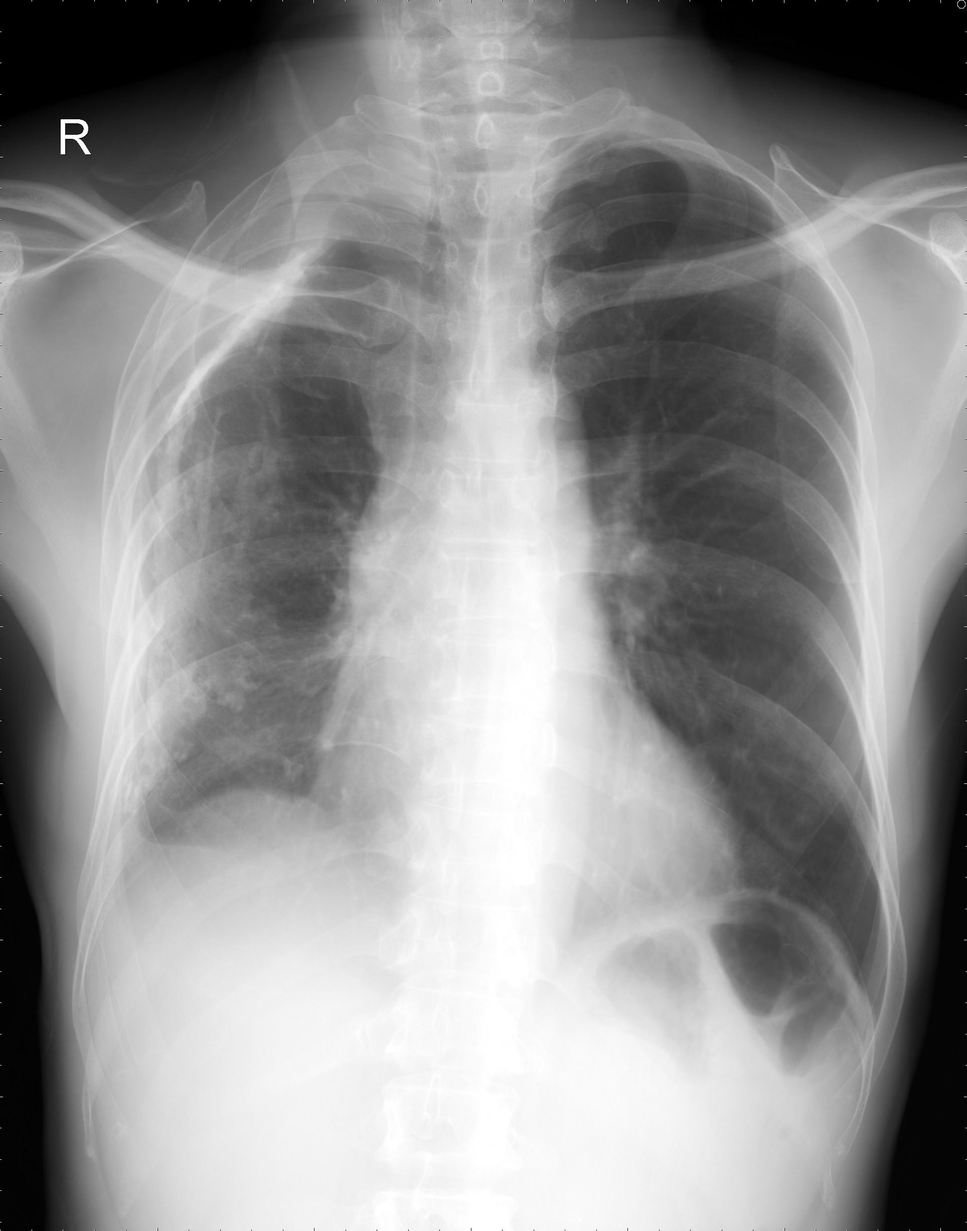Pleural thickening: (114, 179, 344, 773), (100, 794, 202, 900)
